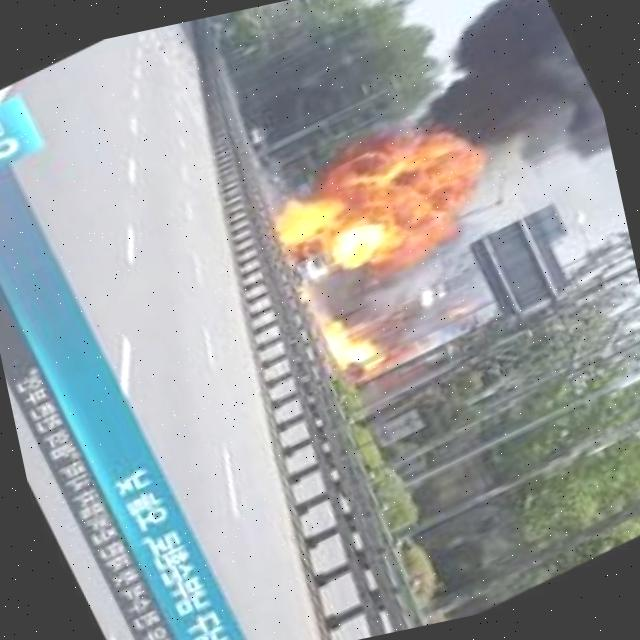fire: (284, 111, 468, 296), (406, 102, 490, 222), (313, 307, 384, 388), (262, 187, 322, 260)
